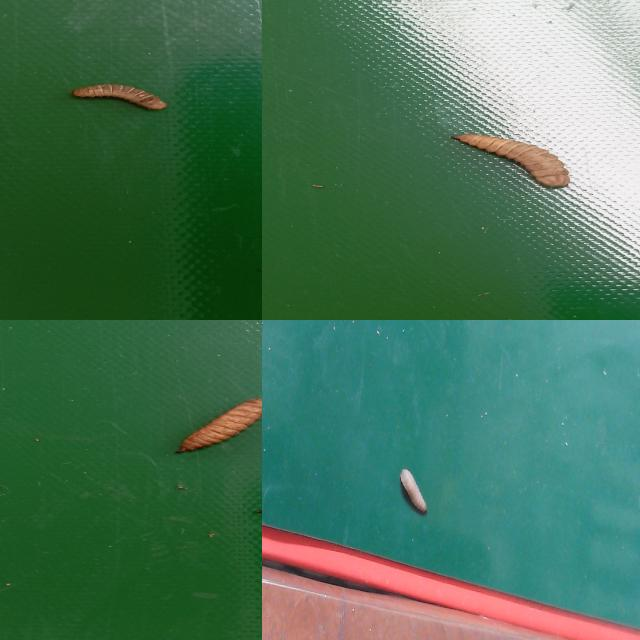Maggot: (455, 132, 573, 192), (178, 399, 262, 455), (71, 83, 167, 113), (400, 470, 430, 519)
